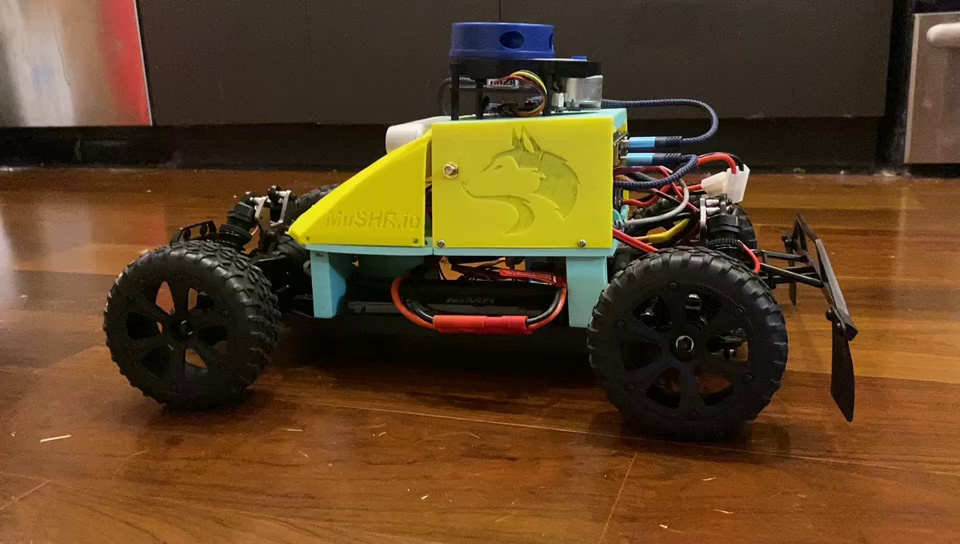mushr_car: (85, 15, 871, 447)
